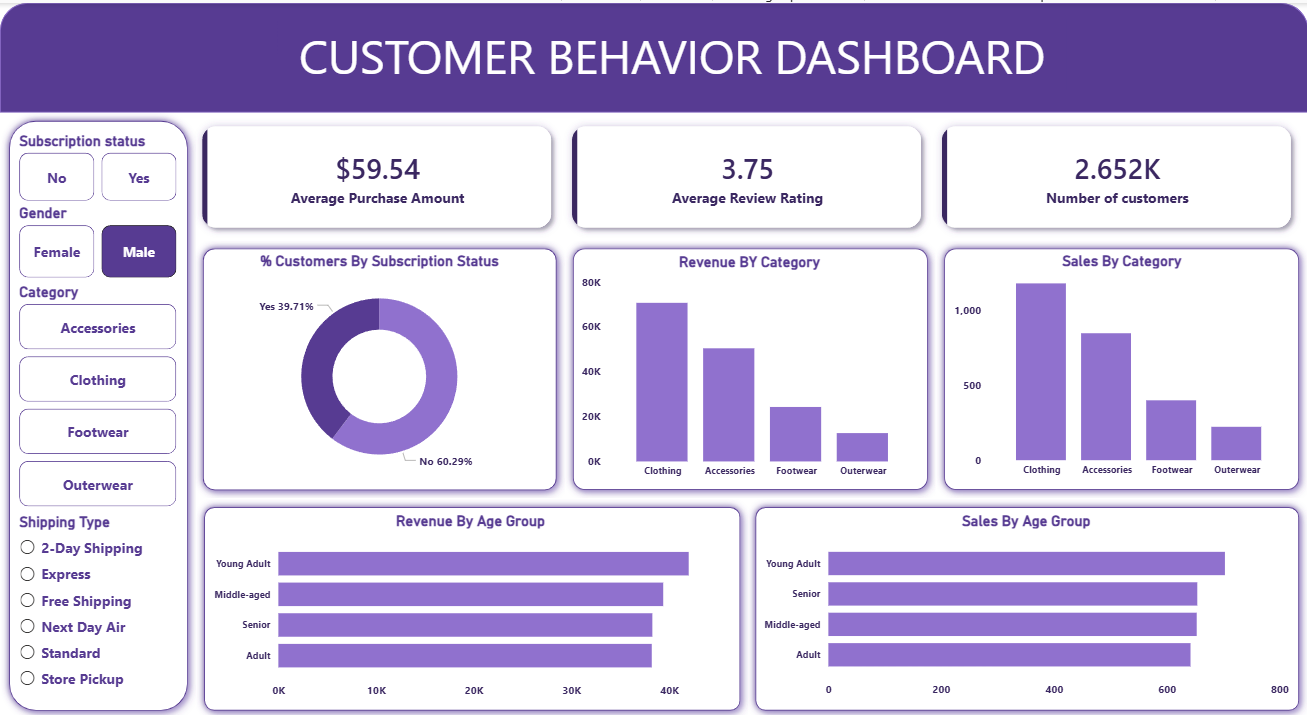

Layout of this report page (visuals, bound fields, positions):
{"tool":"powerbi","page":{"name":"Customer_Behavior","canvas":[1500,820],"ordinal":0},"visuals":[{"type":"cardVisual","fields":{"Data":["public customer.Average Purchase Amount","public customer.Average Review Rating","public customer.Number of customers"]},"box":[215,125,1283.3,150],"z":0},{"type":"shape","box":[0,0,1500,125.7],"z":1000},{"type":"shape","box":[1.4,125.7,222.9,694.3],"z":2000},{"type":"textbox","box":[318.6,18.6,904.3,90],"z":3000},{"type":"shape","box":[223.7,272.6,423.6,295.5],"z":4000},{"type":"shape","box":[647.7,272.9,425,295],"z":5000},{"type":"shape","box":[1073.2,272.9,425,295],"z":6000},{"type":"clusteredColumnChart","title":"Sales By Category","fields":{"Y":["CountNonNull(public customer.purchase_amount)"],"Category":["public customer.category"]},"box":[1088.6,285.7,394.3,267.1],"z":7000},{"type":"clusteredColumnChart","title":"Revenue BY Category","fields":{"Y":["Sum(public customer.purchase_amount)"],"Category":["public customer.category"]},"box":[661.4,287.1,394.3,267.1],"z":8000},{"type":"donutChart","title":"% Customers By Subscription Status","fields":{"Y":["CountNonNull(public customer.customer_id)"],"Category":["public customer.subscription_status"]},"box":[237.1,285.7,397.1,267.1],"z":9000},{"type":"advancedSlicerVisual","title":"Subscription status","fields":{"Values":["public customer.subscription_status"]},"box":[17.1,147.1,190,84.3],"z":10000},{"type":"advancedSlicerVisual","title":"Gender","fields":{"Values":["public customer.gender"]},"box":[16.7,231.1,190,90],"z":11000},{"type":"advancedSlicerVisual","title":"Category","fields":{"Values":["public customer.category"]},"box":[17.1,321.4,190,262.9],"z":12000},{"type":"listSlicer","title":"Shipping Type","fields":{"Values":["public customer.shipping_type"]},"box":[16.7,585,190,211.7],"z":13000},{"type":"shape","box":[224.3,568.6,632.9,251.4],"z":14000},{"type":"shape","box":[857.1,568.6,641.4,251.4],"z":15000},{"type":"clusteredBarChart","title":"Revenue By Age Group","fields":{"Y":["Sum(public customer.purchase_amount)"],"Category":["public customer.age_group"]},"box":[240,582.9,600,222.9],"z":16000},{"type":"clusteredBarChart","title":"Sales By Age Group","fields":{"Category":["public customer.age_group"],"Y":["CountNonNull(public customer.customer_id)"]},"box":[870,583.3,613.3,221.7],"z":17000}]}

Visuals, with their boxes in screenshot pixels (x1, y1, x2, y2), scaled from the page's 1500x820 canvas onto the 1307x715 screenshot:
cardVisual - public customer.Average Purchase Amount x public customer.Average Review Rating: [187, 109, 1306, 240]
shape: [0, 0, 1306, 110]
shape: [1, 110, 195, 714]
textbox: [278, 16, 1066, 95]
shape: [195, 238, 564, 495]
shape: [564, 238, 935, 495]
shape: [935, 238, 1305, 495]
"Sales By Category" clusteredColumnChart: [949, 249, 1292, 482]
"Revenue BY Category" clusteredColumnChart: [576, 250, 920, 483]
"% Customers By Subscription Status" donutChart: [207, 249, 553, 482]
"Subscription status" advancedSlicerVisual: [15, 128, 180, 202]
"Gender" advancedSlicerVisual: [15, 202, 180, 280]
"Category" advancedSlicerVisual: [15, 280, 180, 509]
"Shipping Type" listSlicer: [15, 510, 180, 695]
shape: [195, 496, 747, 714]
shape: [747, 496, 1306, 714]
"Revenue By Age Group" clusteredBarChart: [209, 508, 732, 703]
"Sales By Age Group" clusteredBarChart: [758, 509, 1292, 702]
